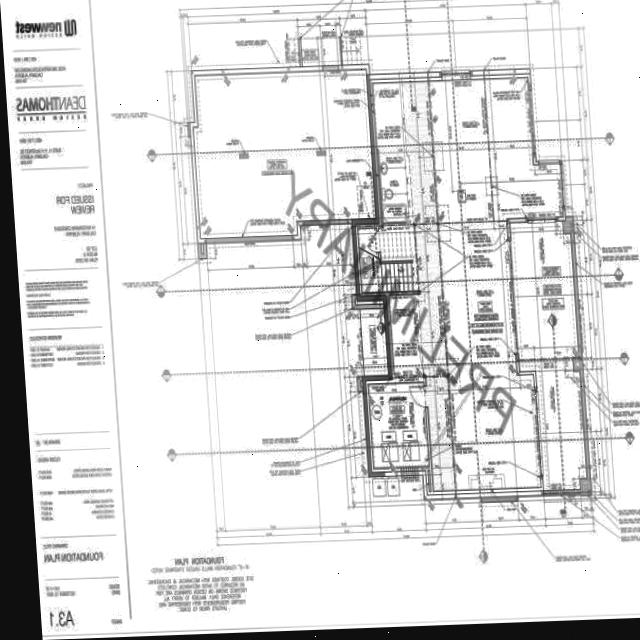room: (368, 381, 429, 470), (357, 227, 381, 293)
